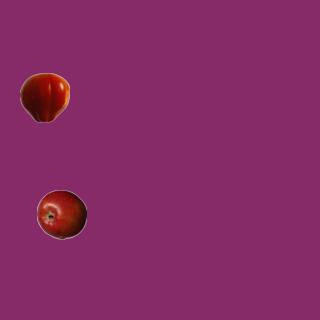Apple Braeburn: (36, 189, 86, 239)
Tomato 1: (19, 72, 69, 122)
